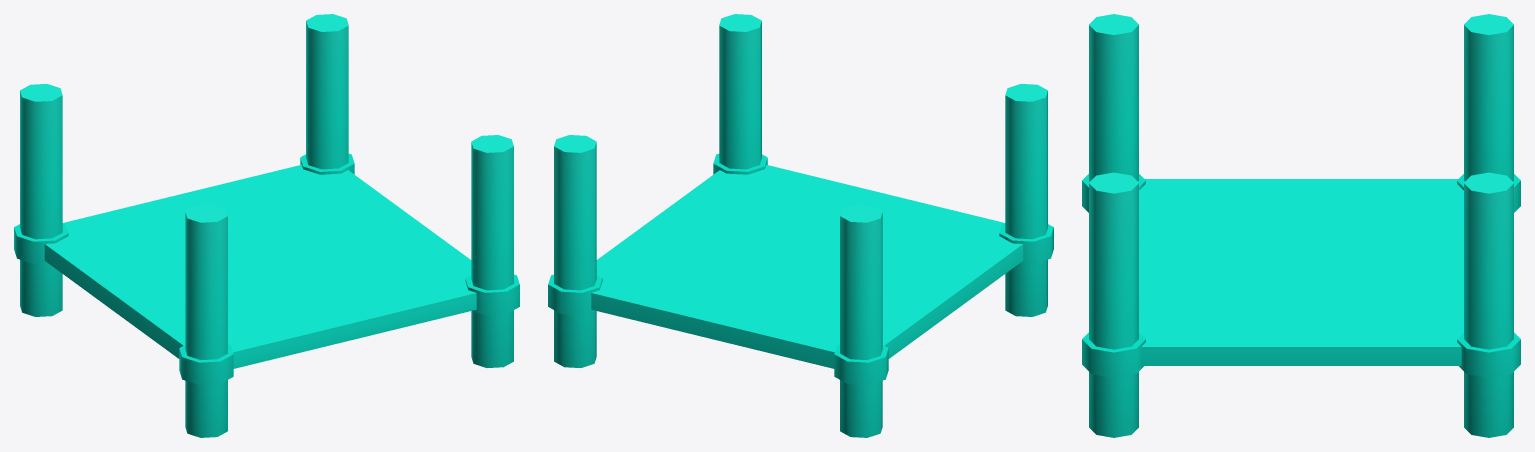
File: Table_Leg_01_S_C05.fbx
3 views of the same model, side by side, from view 1: azimuth 30°, elevation 25°; view 2: azimuth 150°, elevation 25°; view 3: azimuth 270°, elevation 25° (orthographic). The views are drawn at different scales.
Parts seen in each view (by area): view 1: Table_Leg_01_S_C05; view 2: Table_Leg_01_S_C05; view 3: Table_Leg_01_S_C05.
Part boxes in pixels (<box>): Table_Leg_01_S_C05: <box>14,14,519,437</box>; Table_Leg_01_S_C05: <box>548,14,1053,437</box>; Table_Leg_01_S_C05: <box>1082,14,1520,437</box>.
Bounding box in the file's own units: 87.78 × 53.91 × 87.78.
